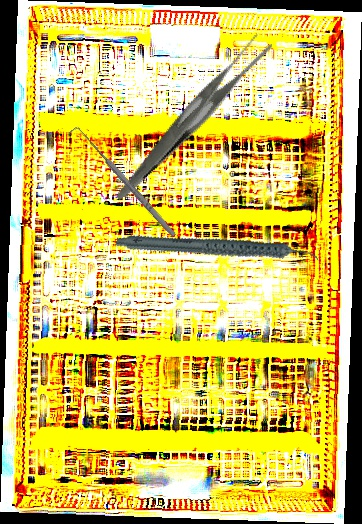Dressing Forceps: (81, 30, 302, 200)
Handpiece: (114, 196, 320, 305)
Hook Surgical: (68, 122, 179, 243)
